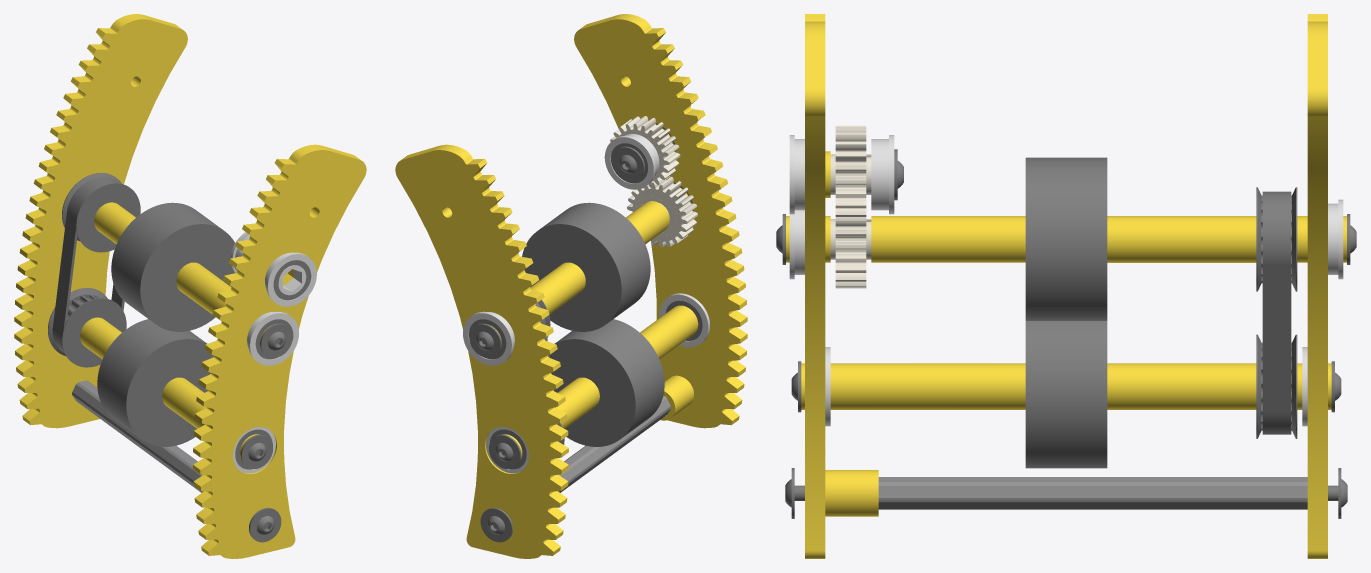
The picture shows the model from 3 angles, left to right: view 1: azimuth 30°, elevation 25°; view 2: azimuth 150°, elevation 25°; view 3: azimuth 270°, elevation 25°; orthographic projection. The views are drawn at different scales.
Parts seen in each view (by area): view 1: occurrence of 2" Solid Urethane Wheel (45A, 1" Wide, 1/2" He; view 2: occurrence of 2" Solid Urethane Wheel (45A, 1" Wide, 1/2" He; view 3: occurrence of 2" Solid Urethane Wheel (45A, 1" Wide, 1/2" He.
Part boxes in pixels (<box>): occurrence of 2" Solid Urethane Wheel (45A, 1" Wide, 1/2" He: <box>14,14,366,558</box>; occurrence of 2" Solid Urethane Wheel (45A, 1" Wide, 1/2" He: <box>395,14,747,558</box>; occurrence of 2" Solid Urethane Wheel (45A, 1" Wide, 1/2" He: <box>776,14,1356,558</box>.
Bounding box in the file's own units: 0.084 × 0.1884 × 0.1806.
